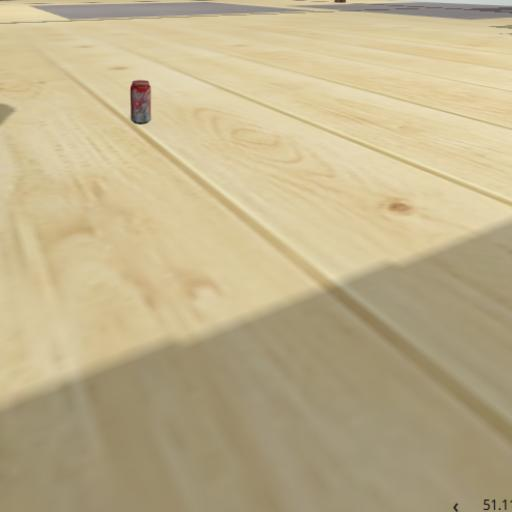COCA: (93, 28, 192, 176)
